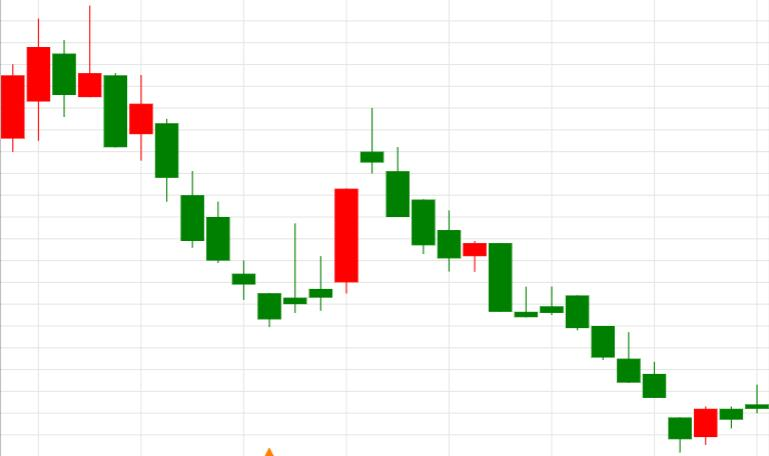evening_star_fall: (258, 108, 409, 326)
